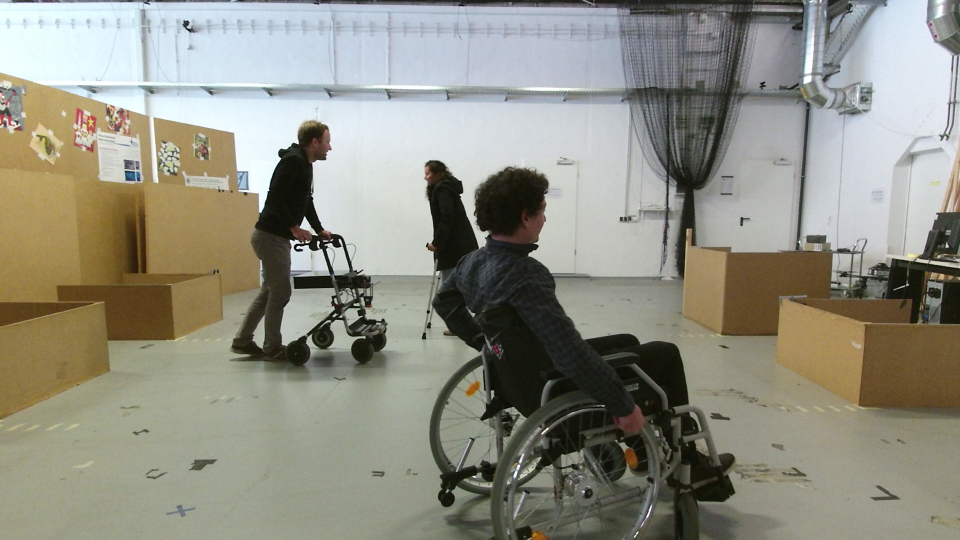wheelchair: (423, 161, 740, 540)
